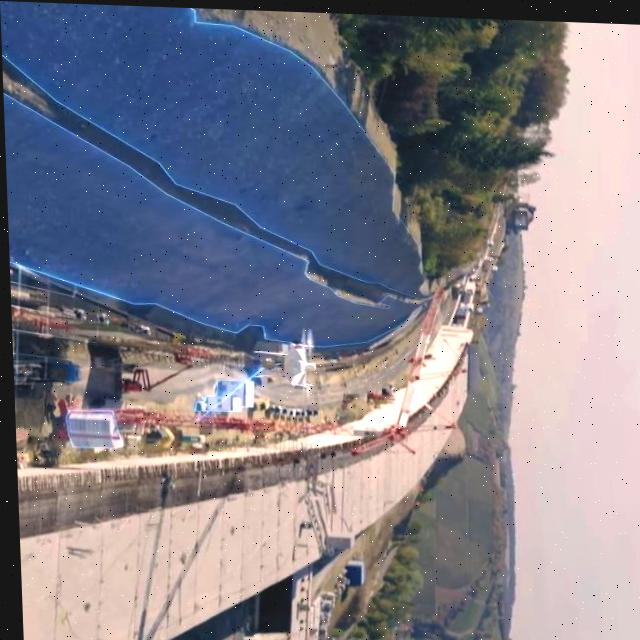drone: (250, 324, 315, 396)
